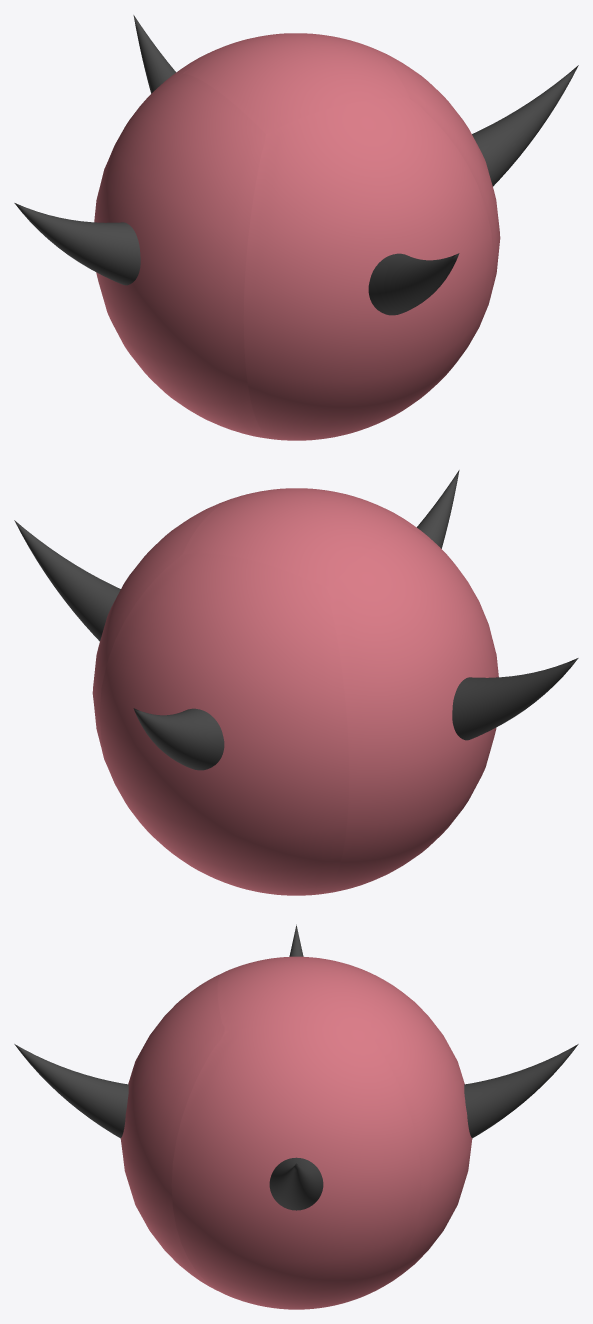
3 renders of one model, top to bottom at view 1: azimuth 30°, elevation 25°; view 2: azimuth 150°, elevation 25°; view 3: azimuth 270°, elevation 25°, orthographic. The views are drawn at different scales.
Visible parts, largest first — view 1: Body(Spherical)+Colour(6070014_6070014)+Pattern(Solid)+_447a, Arm002, Arm001, Arm004, Arm003; view 2: Body(Spherical)+Colour(6070014_6070014)+Pattern(Solid)+_447a, Arm002, Arm003, Arm001, Arm004; view 3: Body(Spherical)+Colour(6070014_6070014)+Pattern(Solid)+_447a, Arm003, Arm004, Arm001.
Boxes of the visible parts, box(x1,y1,x2,y2) form: Body(Spherical)+Colour(6070014_6070014)+Pattern(Solid)+_447a: box(94, 33, 500, 440); Arm002: box(14, 203, 140, 285); Arm001: box(472, 65, 578, 186); Arm004: box(368, 253, 459, 315); Arm003: box(133, 15, 175, 93); Body(Spherical)+Colour(6070014_6070014)+Pattern(Solid)+_447a: box(92, 488, 498, 895); Arm002: box(452, 658, 578, 740); Arm003: box(133, 708, 224, 770); Arm001: box(14, 520, 120, 641); Arm004: box(417, 470, 459, 548); Body(Spherical)+Colour(6070014_6070014)+Pattern(Solid)+_447a: box(120, 956, 472, 1309); Arm003: box(464, 1044, 578, 1138); Arm004: box(14, 1044, 128, 1138); Arm001: box(269, 1157, 323, 1210).
Size of the model in its own units: 1.63 by 1.02 by 1.63.
Materials: 2 (2 with a texture image).
